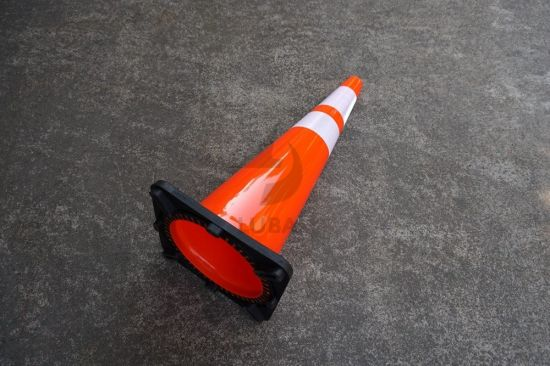cones: (149, 76, 366, 325)
